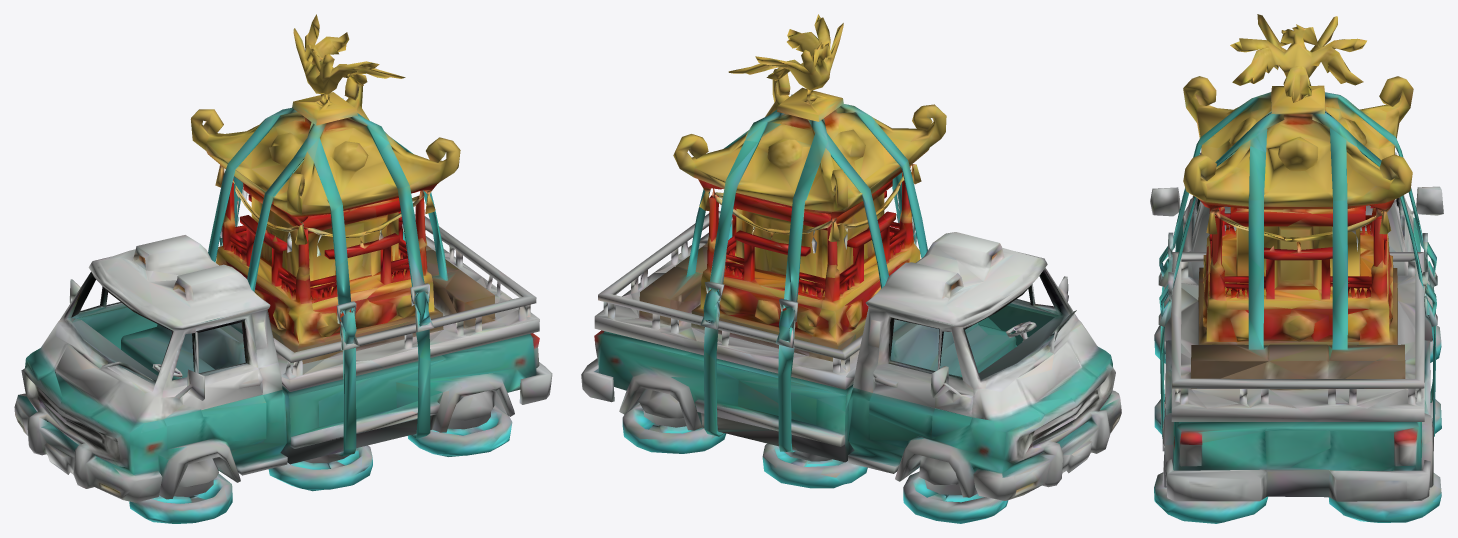
File: prop_mile_payload.glb
The picture shows the model from 3 angles, left to right: view 1: azimuth 30°, elevation 25°; view 2: azimuth 150°, elevation 25°; view 3: azimuth 270°, elevation 25°; orthographic projection. The views are drawn at different scales.
Parts seen in each view (by area): view 1: tripo_node_c3025998-1b7b-405b-836b-7420dc763be7; view 2: tripo_node_c3025998-1b7b-405b-836b-7420dc763be7; view 3: tripo_node_c3025998-1b7b-405b-836b-7420dc763be7.
Part boxes in pixels (bbox=[...]): tripo_node_c3025998-1b7b-405b-836b-7420dc763be7: bbox=[14, 14, 552, 523]; tripo_node_c3025998-1b7b-405b-836b-7420dc763be7: bbox=[581, 14, 1121, 523]; tripo_node_c3025998-1b7b-405b-836b-7420dc763be7: bbox=[1150, 14, 1443, 523].
Bounding box in the file's own units: 0.9787 × 0.8324 × 0.5108.
1 material, 1 textured.
